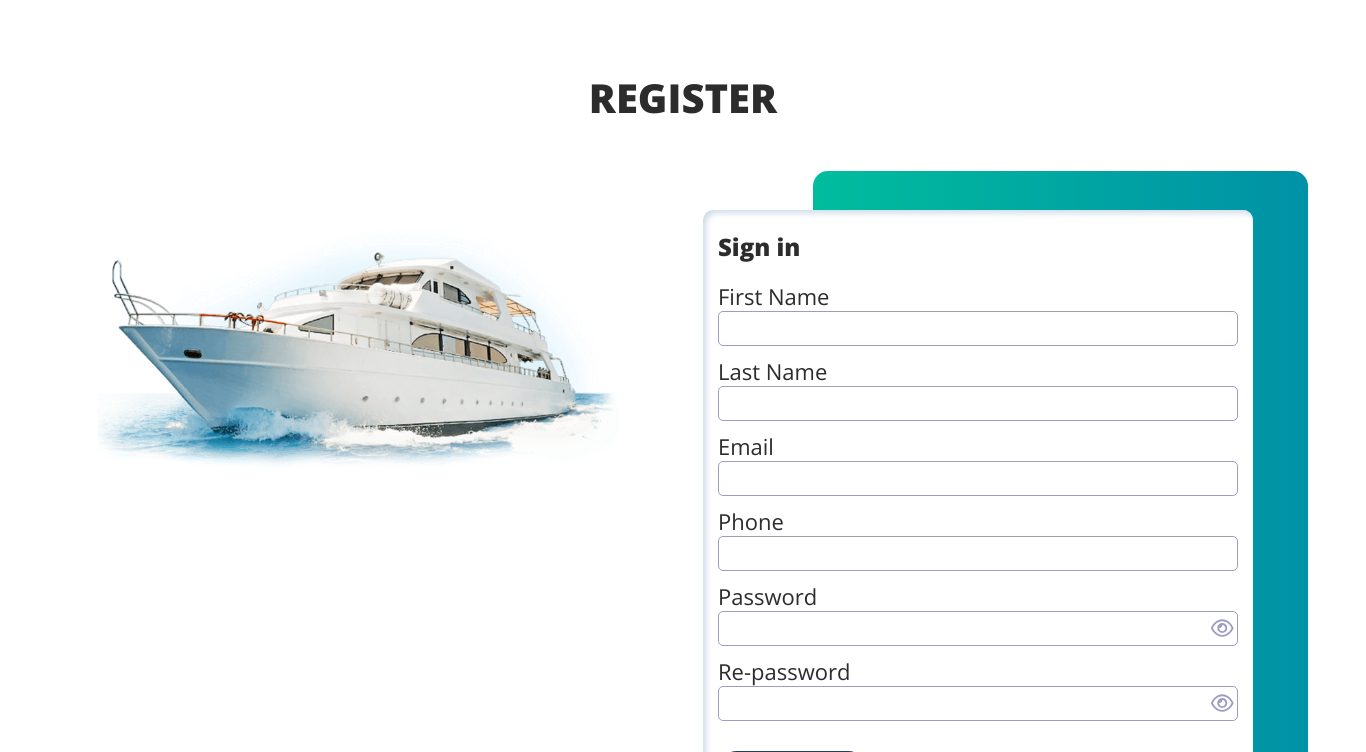
it: Register › Should show email error
This screenshot has width=1366, height=752.
In the field with test id "email": {"x": 978, "y": 478} [718,461,1238,496], type "joe"
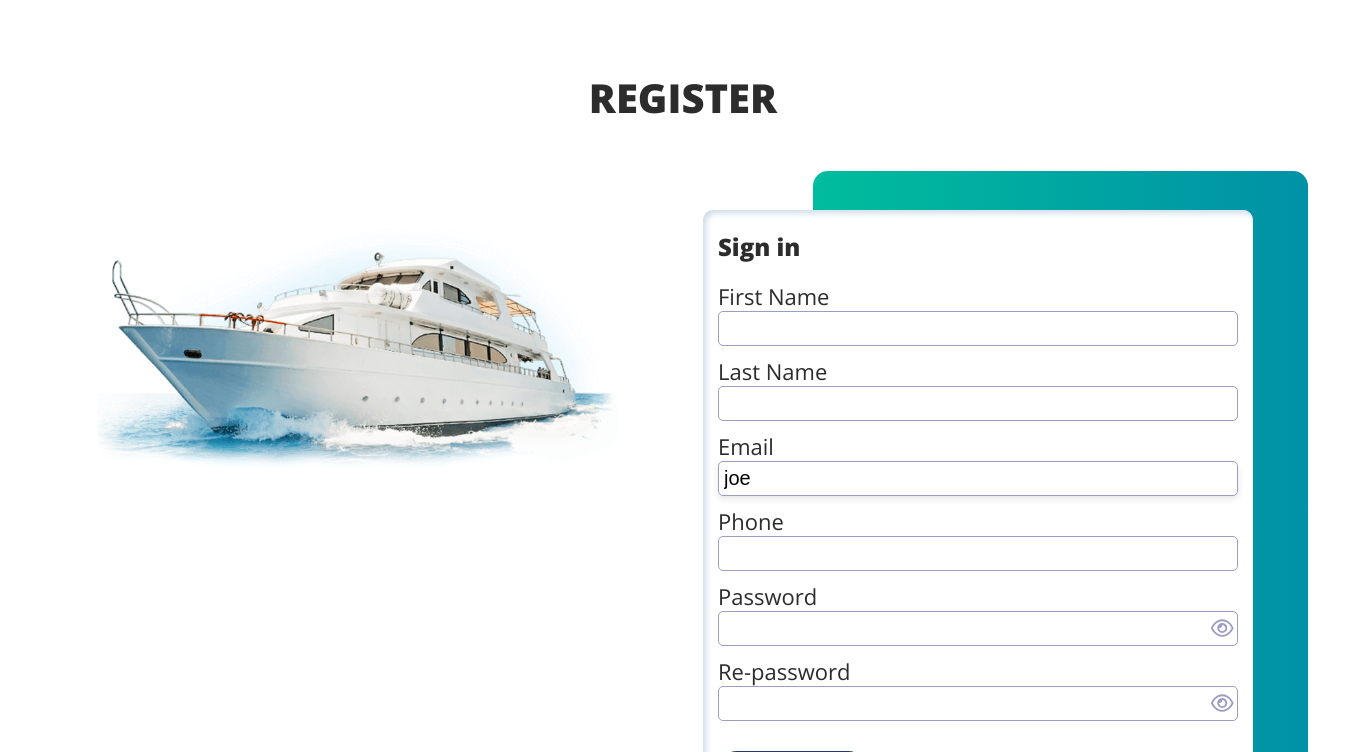
Click the password field with test id "password": {"x": 978, "y": 628} [718,611,1238,646]
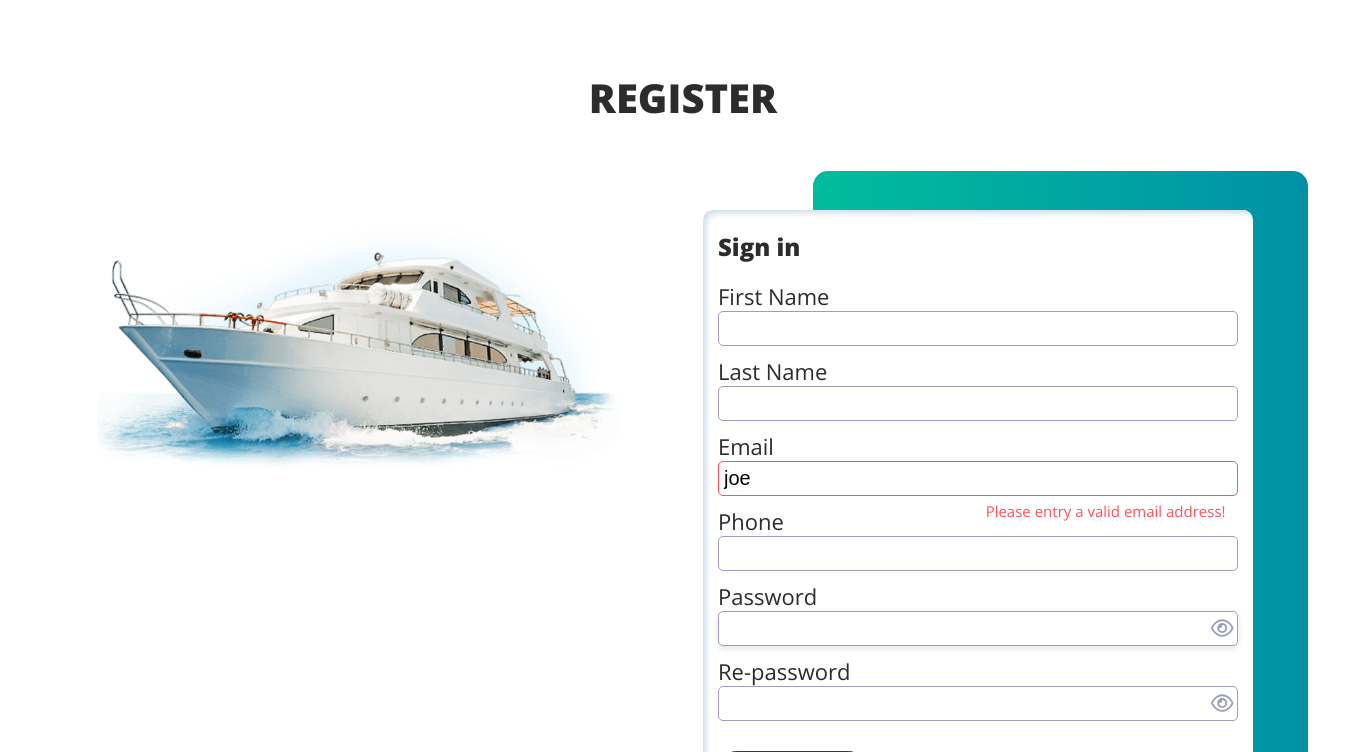
Expected: the text "Please entry a valid email address!" is shown, [986,501,1226,521]
